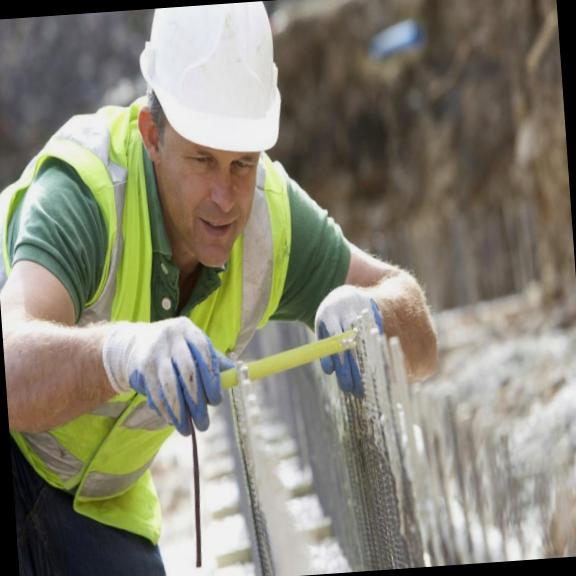safety_vest: (9, 139, 254, 523)
